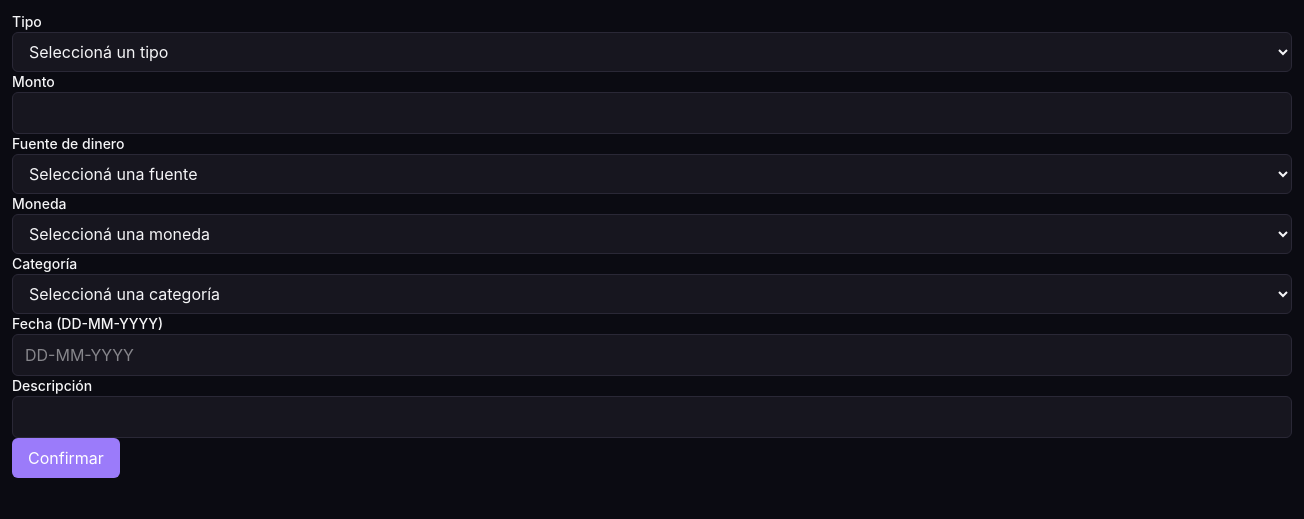
TransactionForm › enviar con monto <= 0 → error de validación visible (AC-05)
Select "Egreso" in the dropdown labelled "Tipo". click: {"x": 652, "y": 52}
box: [12,32,1292,72]
Type "0" into the number field labelled "Monto". click: {"x": 652, "y": 113}
box: [12,92,1292,134]
Select "Efectivo" in the dropdown labelled "Fuente de dinero". click: {"x": 652, "y": 174}
box: [12,154,1292,194]
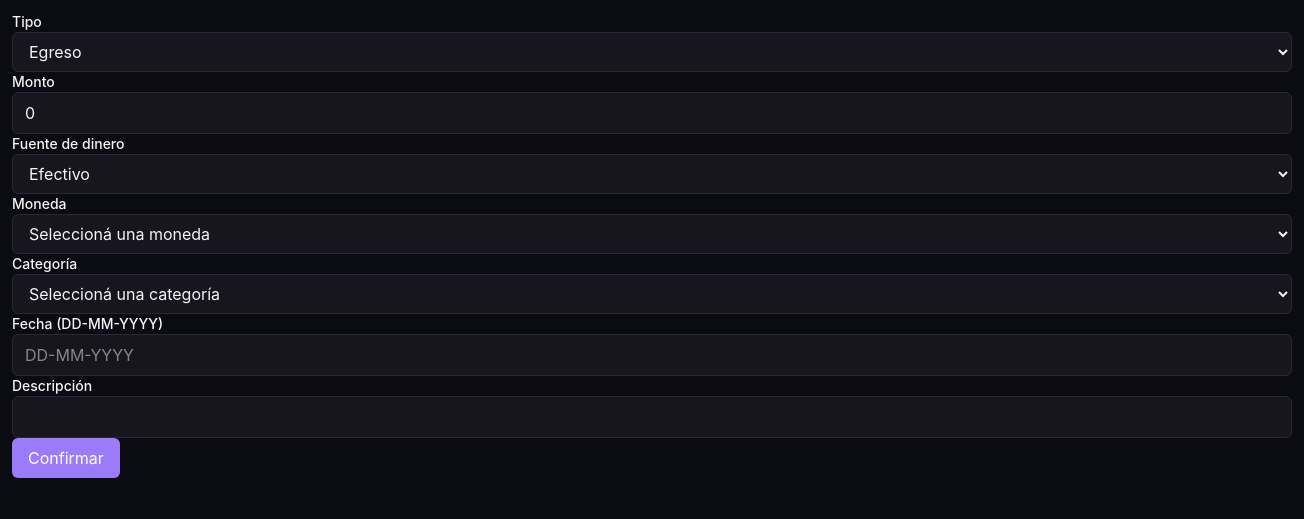
Select "ARS" in the dropdown labelled "Moneda". click: {"x": 652, "y": 234}
box: [12,214,1292,254]
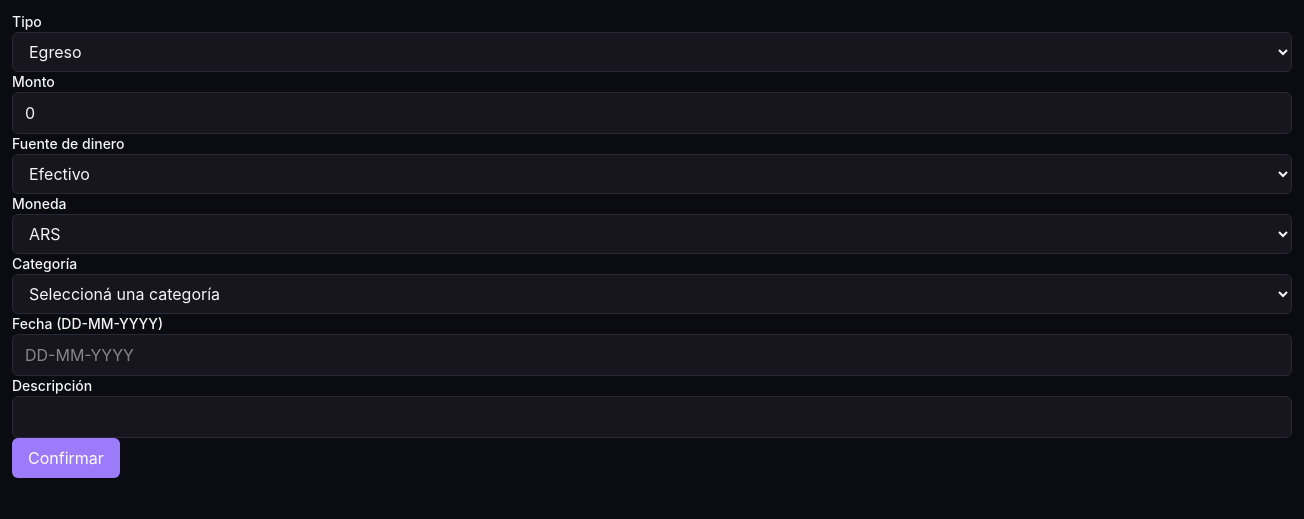
Select "General" in the dropdown labelled "Categoría". click: {"x": 652, "y": 294}
box: [12,274,1292,314]
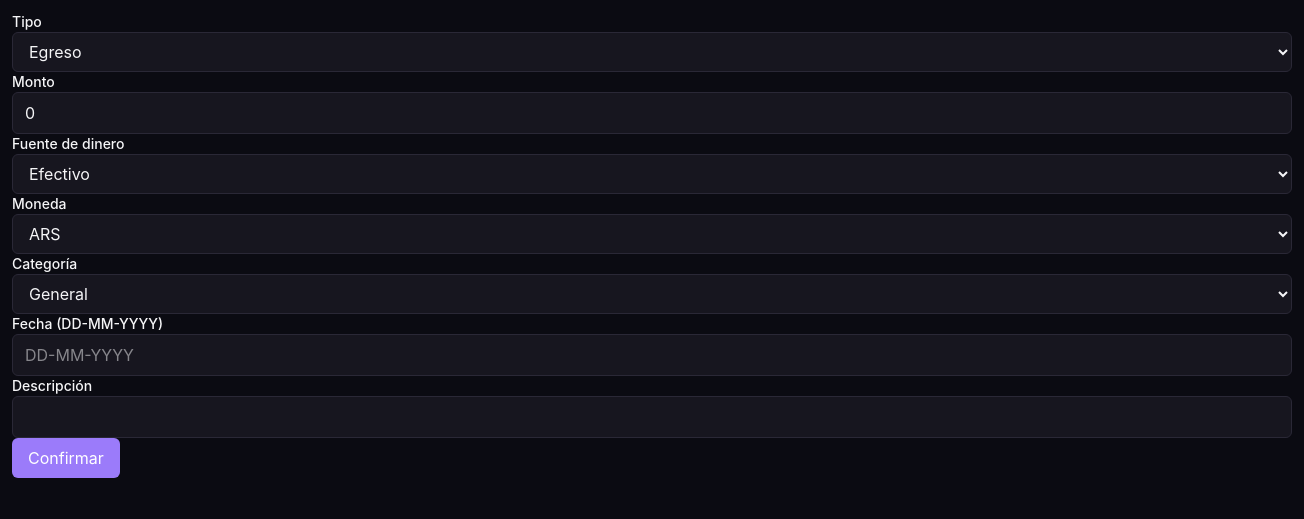
Type "02-08-2026" into the field labelled "Fecha (DD-MM-YYYY)". click: {"x": 652, "y": 355}
box: [12,334,1292,376]
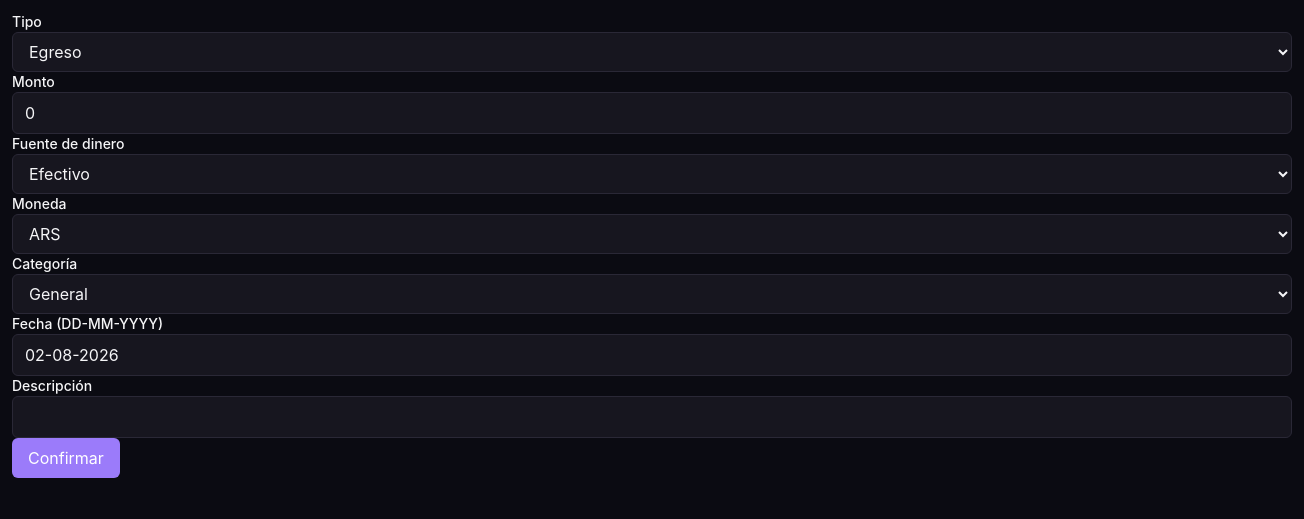
Type "Supermercado" into the field labelled "Descripción". click: {"x": 652, "y": 417}
box: [12,396,1292,438]
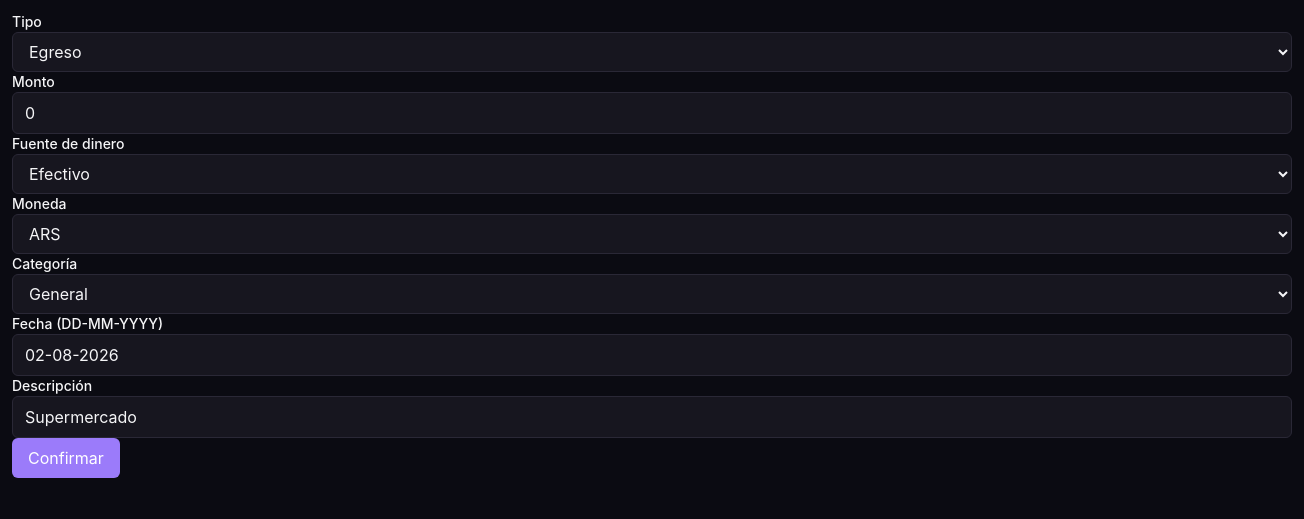
Click the button "Confirmar". click: {"x": 66, "y": 458}
box: [12,438,120,478]
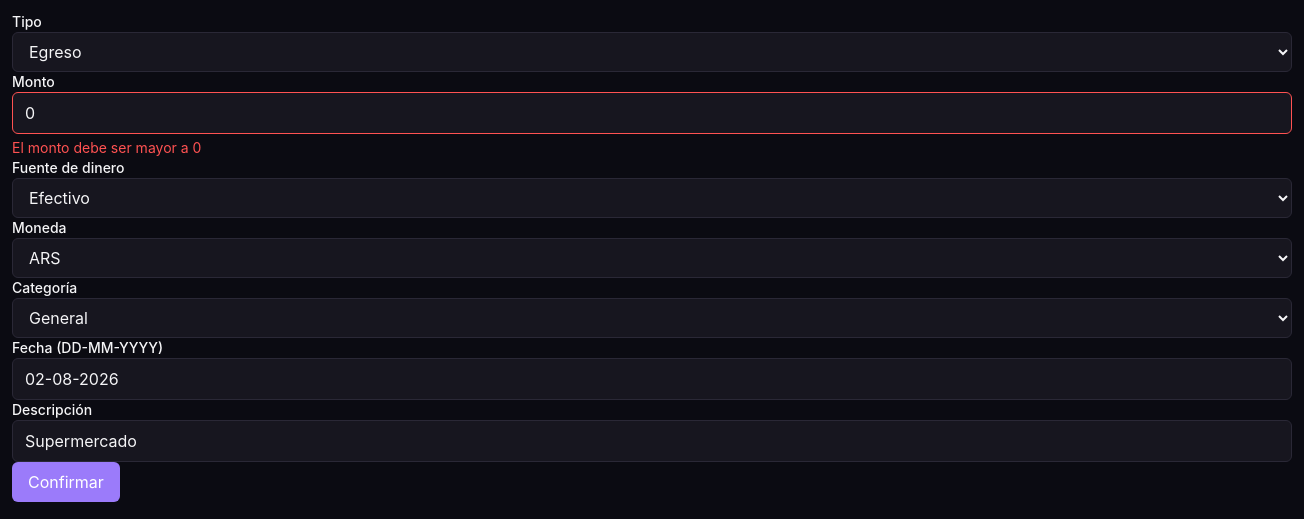
Expected: the text "El monto debe ser mayor a 0" is shown, [12,139,201,156]
